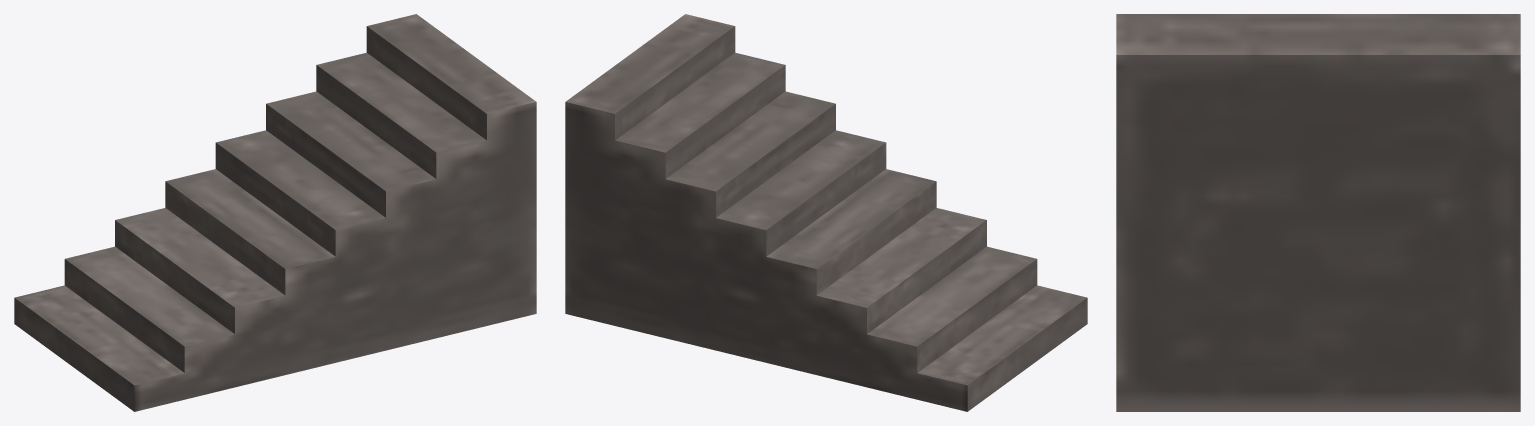
File: newStairs.fbx
The picture shows the model from 3 angles, left to right: view 1: azimuth 30°, elevation 25°; view 2: azimuth 150°, elevation 25°; view 3: azimuth 270°, elevation 25°; orthographic projection. The views are drawn at different scales.
Visible parts, largest first — view 1: Cube.001; view 2: Cube.001; view 3: Cube.001.
Part boxes in pixels (bbox=[...]): Cube.001: bbox=[14, 14, 536, 411]; Cube.001: bbox=[565, 14, 1087, 411]; Cube.001: bbox=[1116, 14, 1520, 411].
Bounding box in the file's own units: 1006 × 507 × 520.
